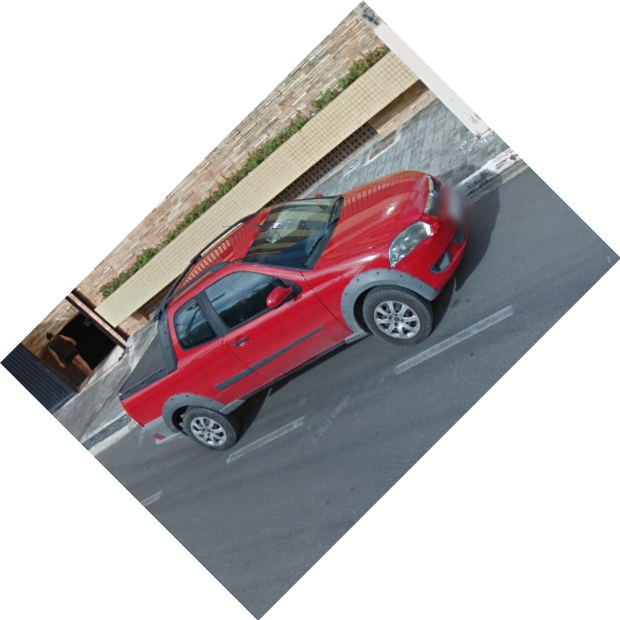car: (116, 170, 474, 454)
